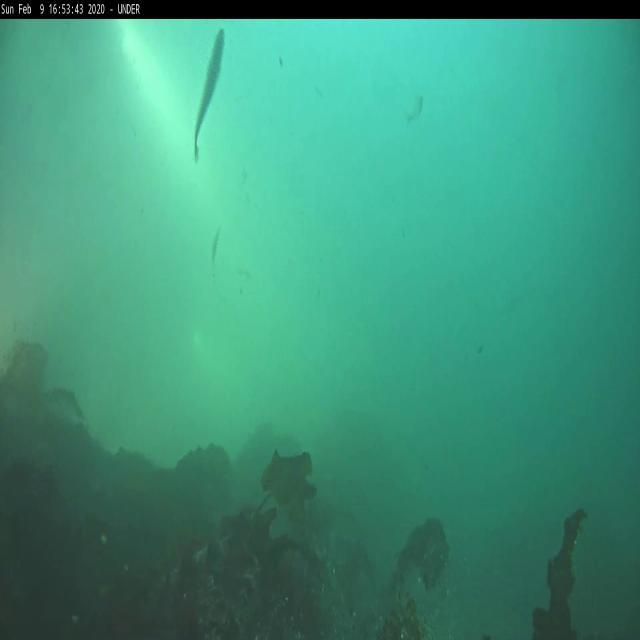fish: (196, 30, 227, 151), (411, 90, 426, 124)
